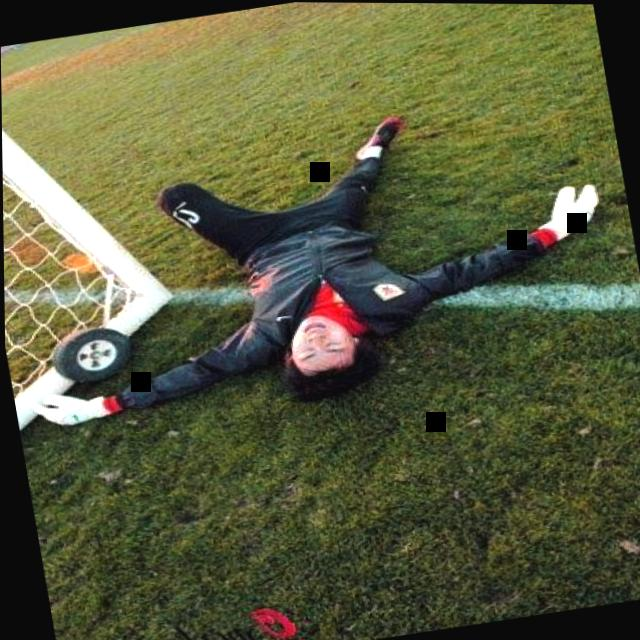Fall-Detected: (1, 57, 640, 451)
